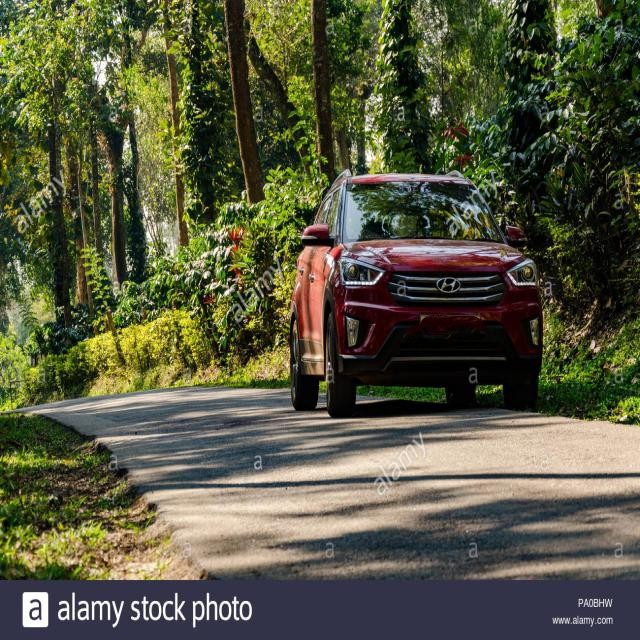car: (290, 168, 543, 418)
